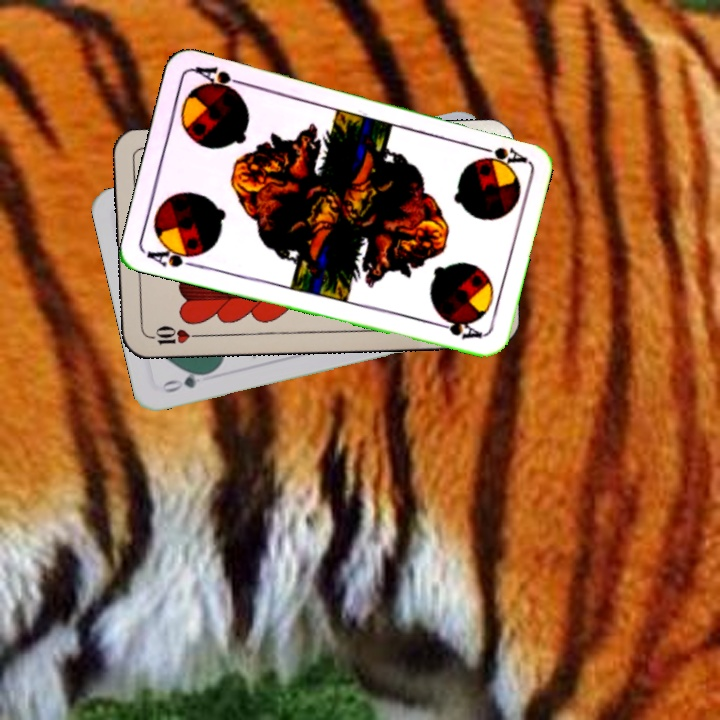GO: (157, 367, 214, 396)
H10: (144, 322, 203, 347)
SA: (143, 241, 205, 271), (470, 141, 528, 166)
